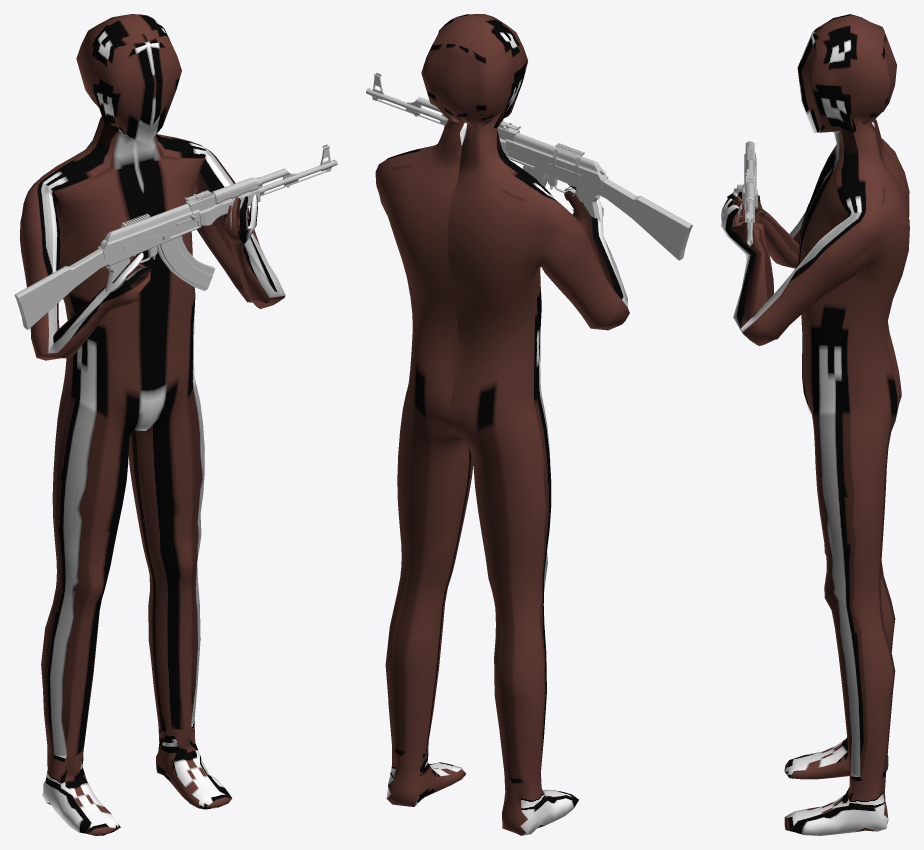
The model's file is playerStay.obj.
The picture shows the model from 3 angles, left to right: view 1: azimuth 30°, elevation 25°; view 2: azimuth 150°, elevation 25°; view 3: azimuth 270°, elevation 25°; orthographic projection.
Parts seen in each view (by area): view 1: Cube_Cube.001, Cube.001_Cube; view 2: Cube_Cube.001, Cube.001_Cube; view 3: Cube_Cube.001, Cube.001_Cube.
Boxes of the visible parts, x1,y1,x2,y2 form: Cube_Cube.001: (19, 14, 285, 835); Cube.001_Cube: (14, 144, 337, 329); Cube_Cube.001: (375, 14, 629, 835); Cube.001_Cube: (366, 72, 692, 260); Cube_Cube.001: (721, 14, 909, 835); Cube.001_Cube: (737, 141, 757, 259).
Bounding box in the file's own units: 2.07 × 4.83 × 1.06.
